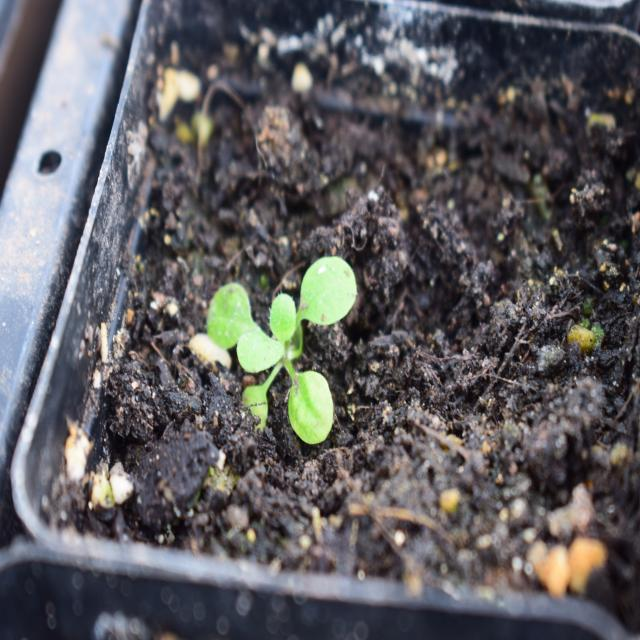Shepherd_Purse: (208, 246, 380, 452)
